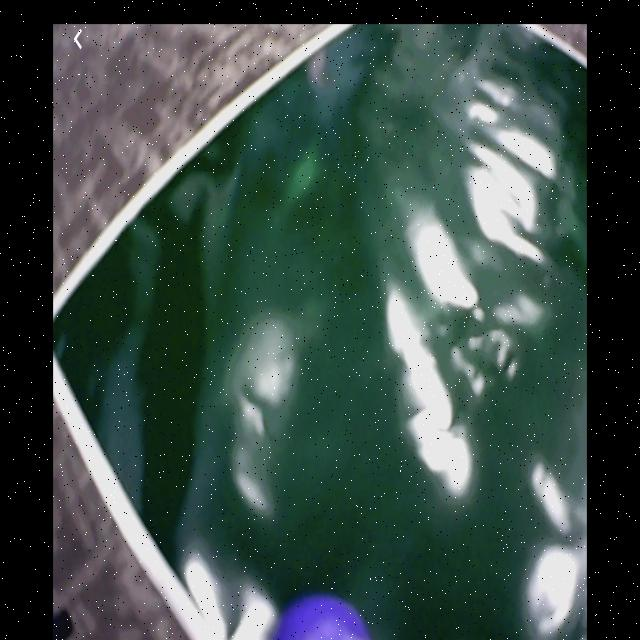ball: (277, 596, 371, 640)
